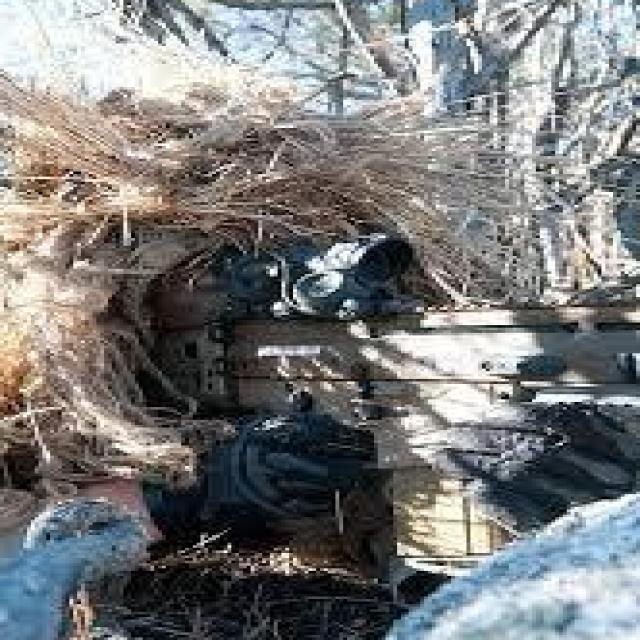Gun: (135, 223, 640, 553)
